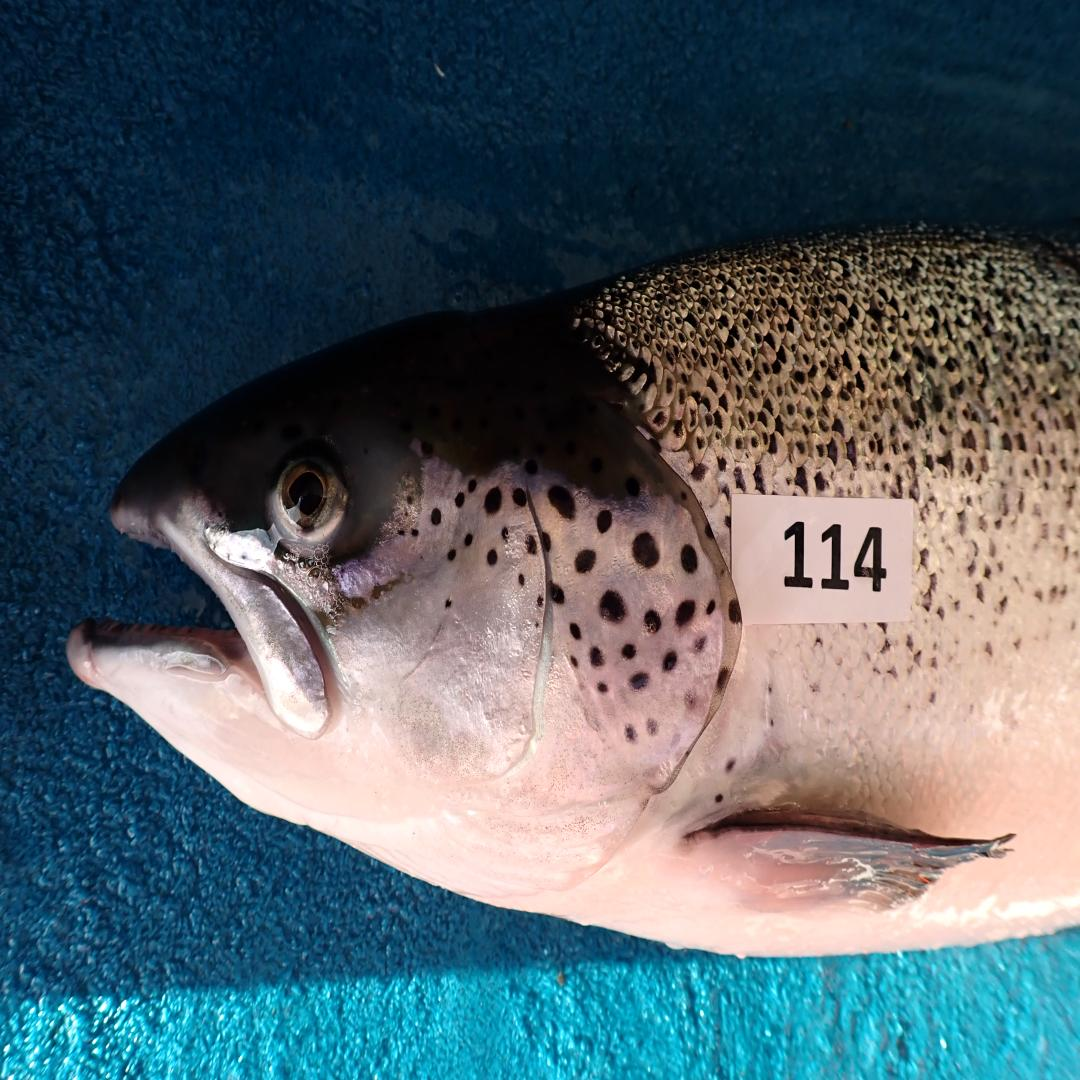roi: (332, 453, 732, 912)
